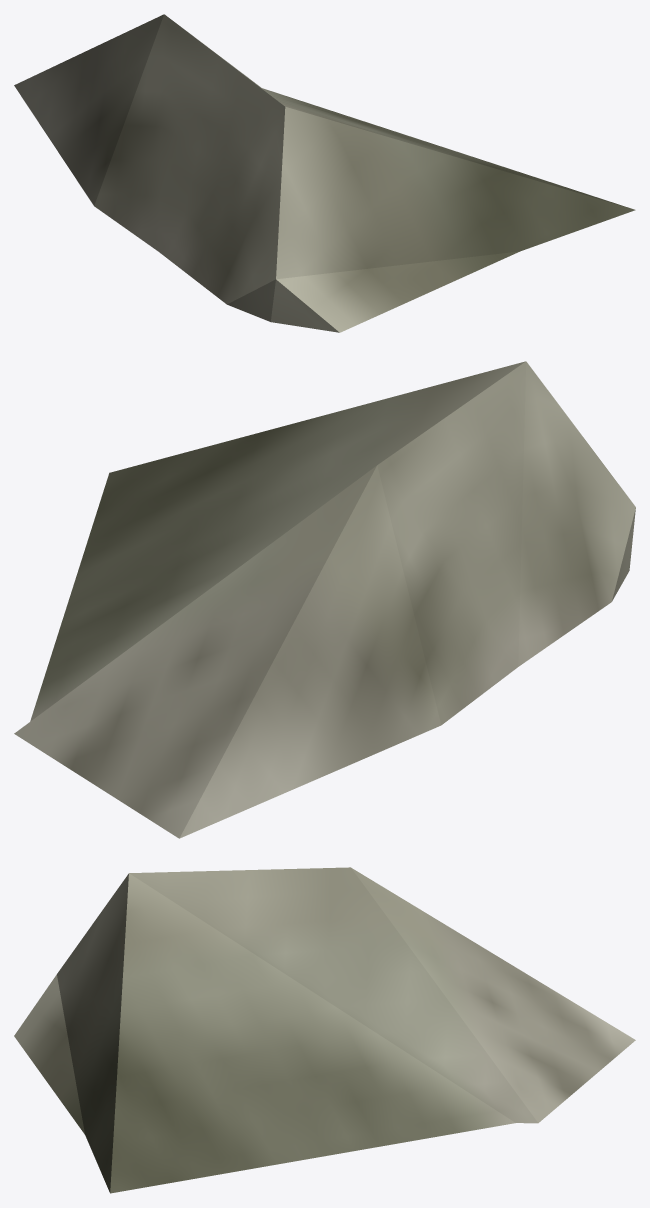
3 views of the same model, one above another, from view 1: azimuth 30°, elevation 25°; view 2: azimuth 150°, elevation 25°; view 3: azimuth 270°, elevation 25° (orthographic). The views are drawn at different scales.
Size of the model in its own units: 0.3068 by 0.134 by 0.4411.
1 material, 1 textured.
